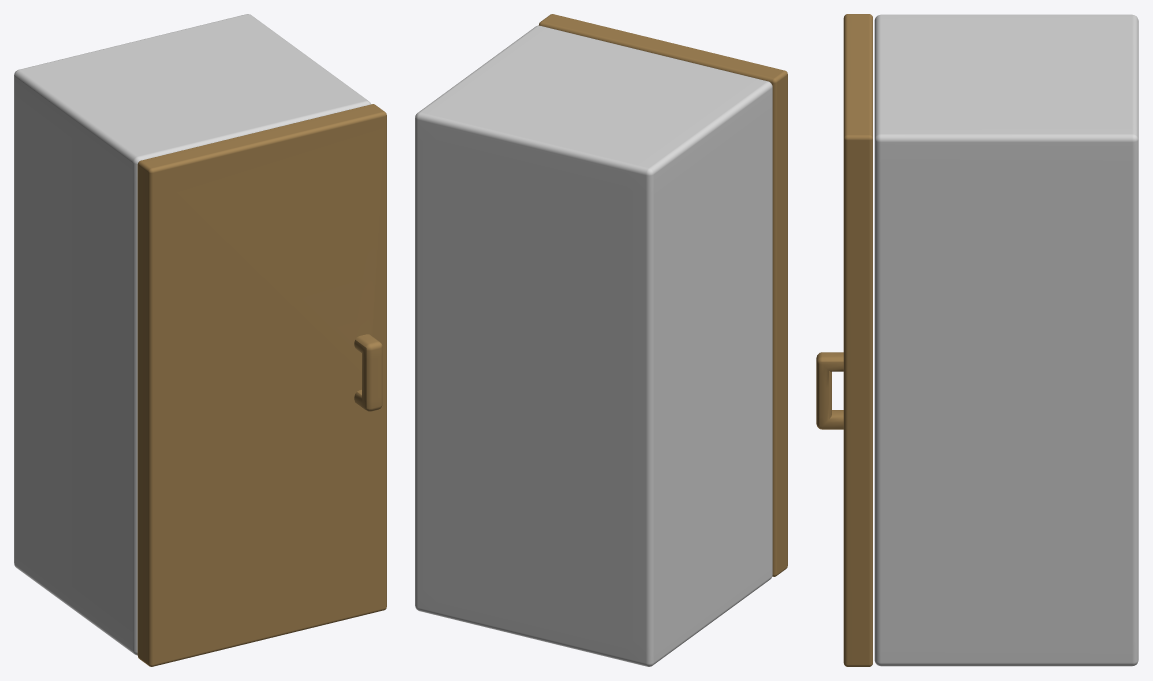
Rendered from Cabinet.fbx.
3 renders of one model, left to right at view 1: azimuth 30°, elevation 25°; view 2: azimuth 150°, elevation 25°; view 3: azimuth 270°, elevation 25°, orthographic. The views are drawn at different scales.
Visible parts, largest first — view 1: Cabinet_Door, Cabinet; view 2: Cabinet, Cabinet_Door; view 3: Cabinet, Cabinet_Door.
Boxes of the visible parts, bbox=[...] form: Cabinet_Door: bbox=[137, 104, 386, 666]; Cabinet: bbox=[14, 14, 370, 655]; Cabinet: bbox=[415, 25, 772, 666]; Cabinet_Door: bbox=[538, 14, 787, 576]; Cabinet: bbox=[874, 14, 1138, 666]; Cabinet_Door: bbox=[816, 14, 872, 666].
Size of the model in its own units: 1 by 2 by 1.1.
